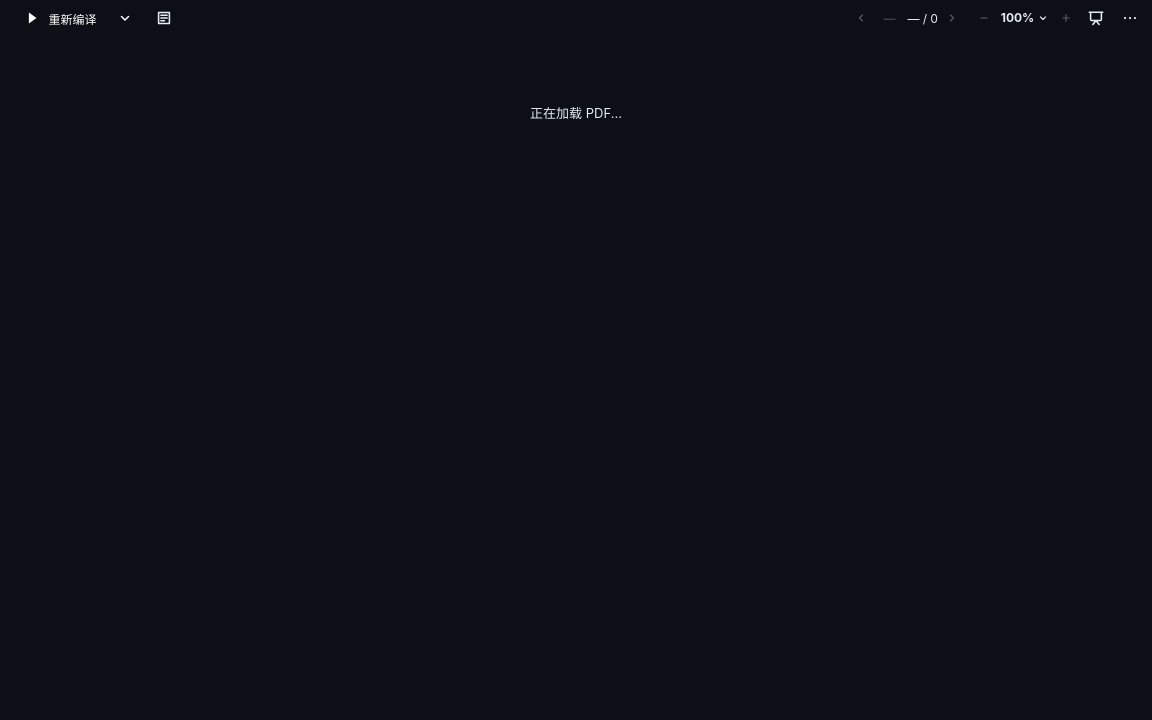
compiled-PDF toolbar overflow › localizes the time limit setting in Chinese
Click the button named "编译选项" at (125, 18), box [112,4,138,32]
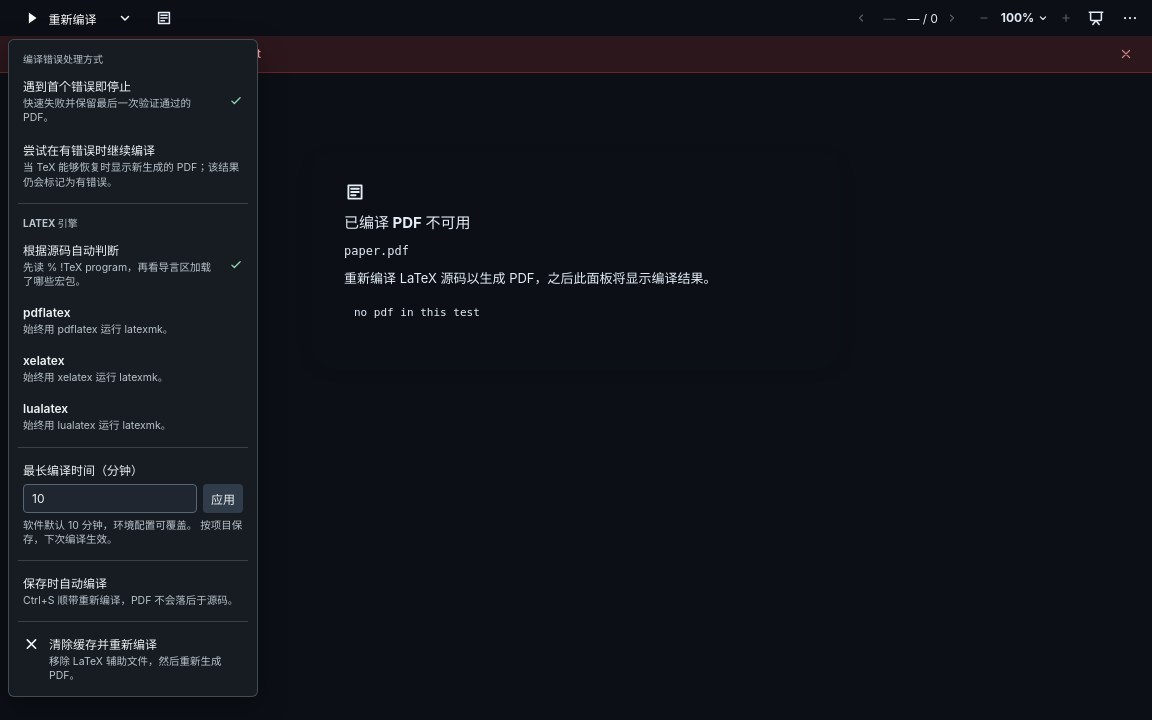
expect the number field labelled "最长编译时间（分钟）" is shown: met, box [23,484,197,512]
expect the text "软件默认 10 分钟，环境配置可覆盖。 按项目保存，下次编译生效。" is shown: met, box [23,518,243,547]
expect the button "应用" is shown: met, box [203,484,243,512]
